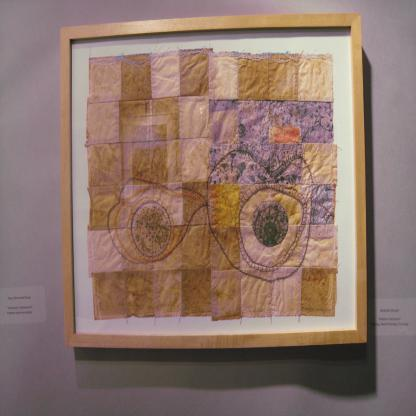Picture-frame: (67, 13, 364, 351)
